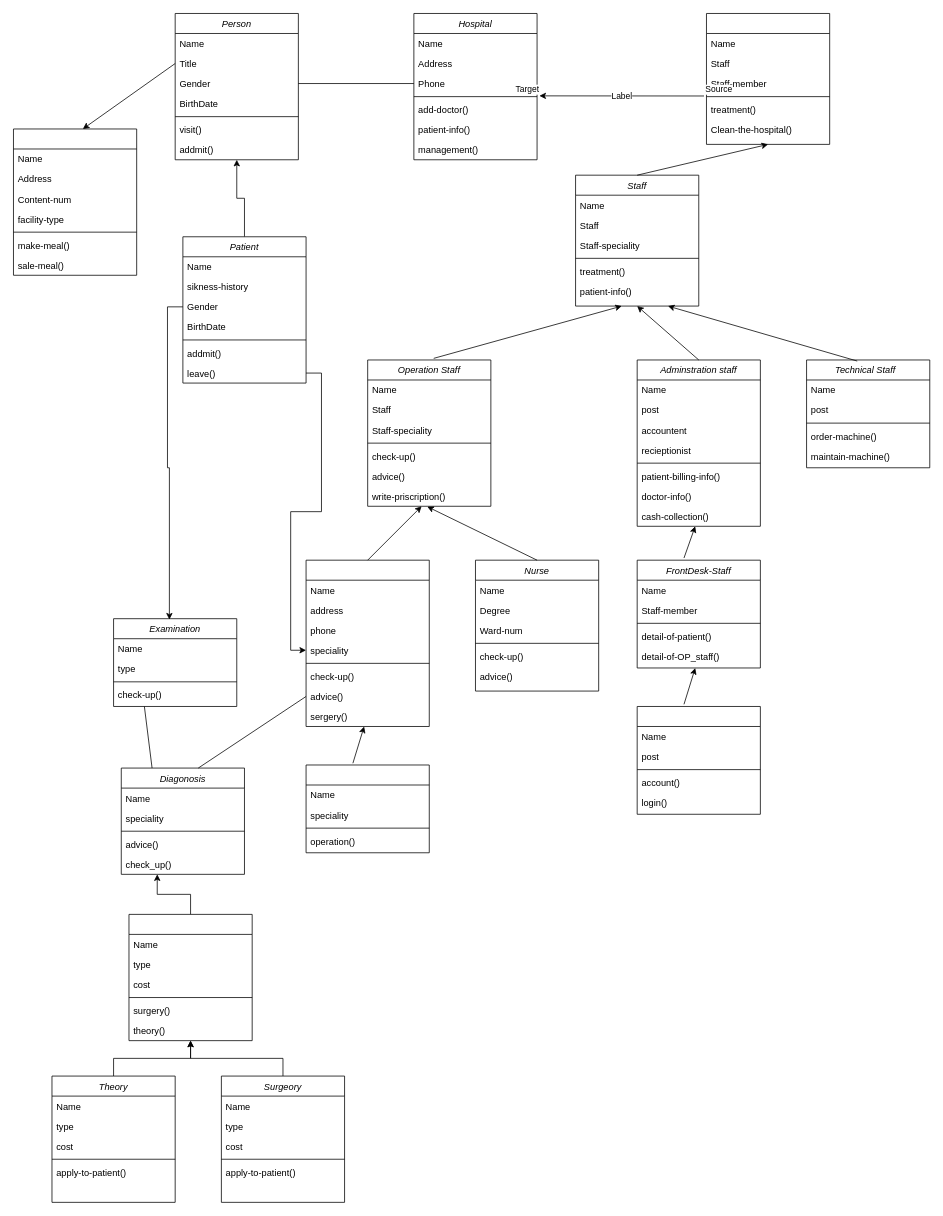
Some shapes in this 943 by 1216 pixel diagram are drawn without their labels. The shapes that lost their labels are listed below. From the top down, each one's box as (x1, y1, x2, y2) in pixels, then its label:
(706, 13, 830, 144): Department
(13, 128, 137, 275): Catring
(305, 559, 429, 726): Doctor
(636, 706, 760, 814): Receptionist
(305, 764, 429, 853): Surgion
(128, 914, 252, 1041): Treatment
